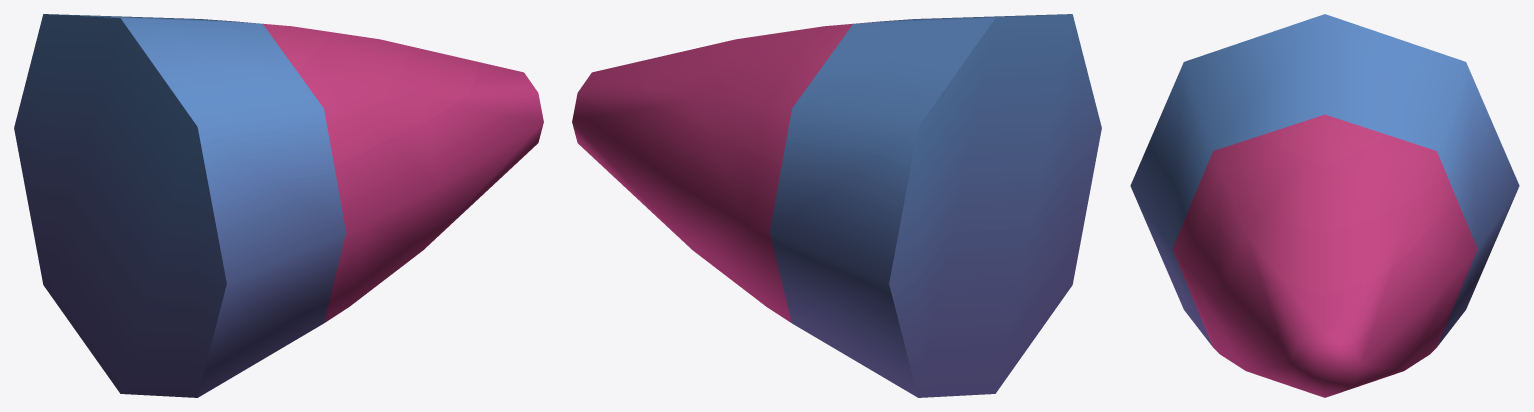
File: Space_Ship_Exploded_04.fbx
3 views of the same model, side by side, from view 1: azimuth 30°, elevation 25°; view 2: azimuth 150°, elevation 25°; view 3: azimuth 270°, elevation 25° (orthographic). The views are drawn at different scales.
Visible parts, largest first — view 1: polySurface41; view 2: polySurface41; view 3: polySurface41.
Boxes of the visible parts, box(x1,y1,x2,y2) form: polySurface41: box(14, 14, 543, 397); polySurface41: box(572, 14, 1101, 397); polySurface41: box(1130, 14, 1519, 397).
Size of the model in its own units: 209 by 186 by 191.
1 material, 1 textured.
